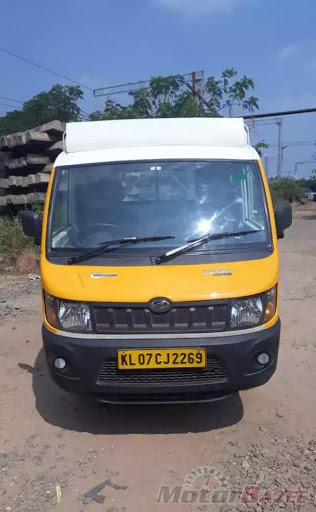numberplate: (115, 346, 206, 370)
